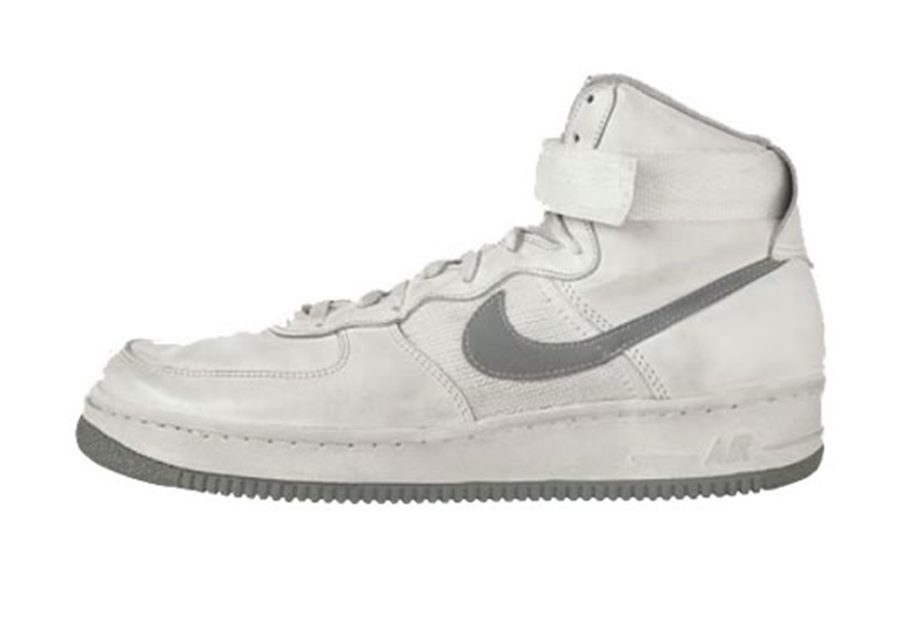nike: (461, 277, 744, 381)
